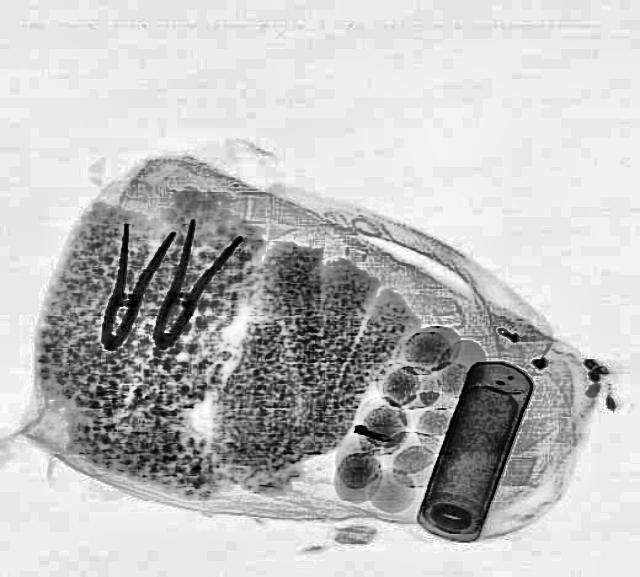Pliers: (130, 215, 244, 356), (80, 220, 176, 356)
